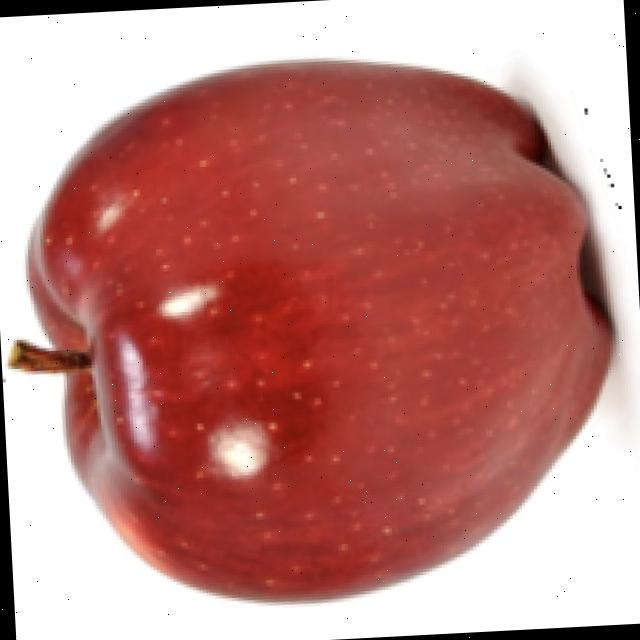apple: (2, 50, 640, 611)
